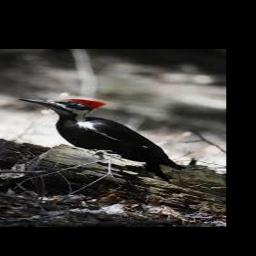Woodpecker: (19, 97, 185, 179)
